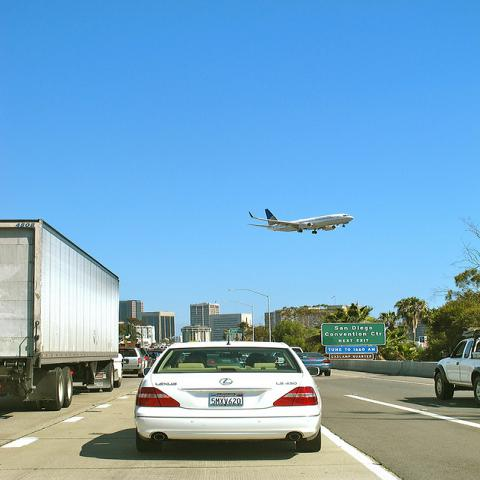car: (134, 335, 322, 453), (296, 352, 332, 376), (120, 347, 148, 377), (271, 345, 306, 363), (147, 351, 164, 359), (142, 347, 149, 351)
truck: (0, 219, 125, 406), (433, 338, 479, 407)
